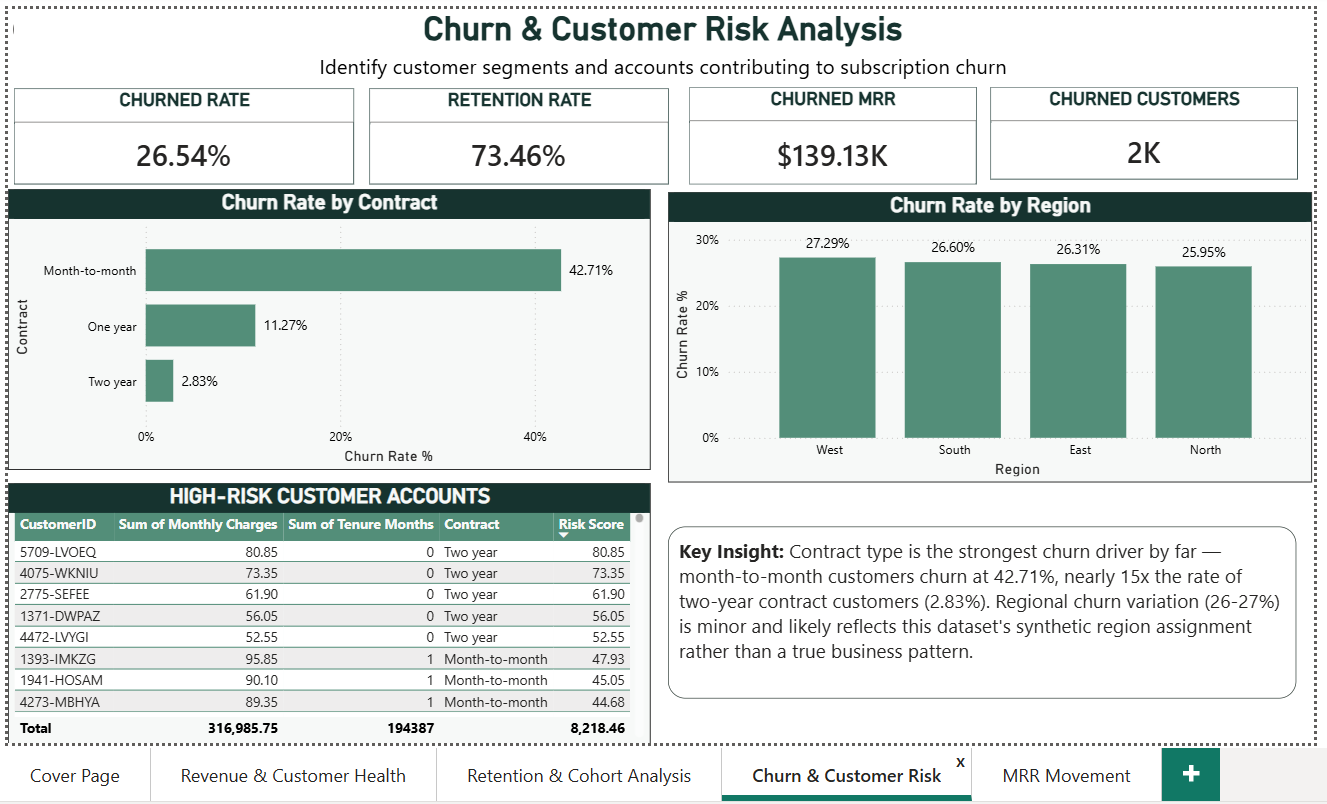

The page's visual inventory and layout, read from the dashboard file:
{"tool":"powerbi","page":{"name":"Churn & Customer Risk","canvas":[1280,720],"ordinal":3},"visuals":[{"type":"clusteredBarChart","title":"Churn Rate  by Contract","fields":{"Category":["Subscriptions.Contract"],"Y":["Subscriptions.Churn Rate %"]},"box":[0,176.4,629.8,275.5],"z":0},{"type":"columnChart","title":"Churn Rate by Region","fields":{"Y":["Subscriptions.Churn Rate %"],"Category":["Subscriptions.Region"]},"box":[647.7,179.7,631.5,285],"z":1000},{"type":"tableEx","title":"HIGH-RISK CUSTOMER ACCOUNTS   ","fields":{"Values":["Subscriptions.CustomerID","Sum(Subscriptions.Monthly Charges)","Sum(Subscriptions.Tenure Months)","Subscriptions.Contract","Subscriptions.Risk Score"]},"box":[0,464.7,629.9,255.8],"z":2000},{"type":"actionButton","box":[0,0,100,40],"z":3000},{"type":"textbox","title":"Churn & Customer Risk Analysis","box":[5.8,0,1272.7,75.8],"z":4000},{"type":"cardVisual","title":"CHURNED RATE","fields":{"Data":["Subscriptions.Churn Rate %"]},"box":[6.5,77.7,333.6,93.9],"z":5000},{"type":"cardVisual","title":"RETENTION RATE","fields":{"Data":["Subscriptions.Retention Rate %"]},"box":[354.6,77.7,293.1,93.9],"z":6000},{"type":"cardVisual","title":"CHURNED MRR","fields":{"Data":["Subscriptions.Churned MRR"]},"box":[667.1,76.1,281.7,95.5],"z":7000},{"type":"cardVisual","title":"CHURNED CUSTOMERS","fields":{"Data":["Subscriptions.Churned Customers"]},"box":[963.4,76.1,301.2,90.7],"z":8000},{"type":"textbox","box":[647.4,506.8,615.8,168.9],"z":8001}]}

Visuals, with their boxes on the page's 1280x720 design canvas (x1, y1, x2, y2). These are canvas units, not pixel positions in the 1327x804 screenshot, which may show the page scaled, cropped or inside an application window:
"Churn Rate  by Contract" clusteredBarChart: left=0, top=176, right=630, bottom=452
"Churn Rate by Region" columnChart: left=648, top=180, right=1279, bottom=465
"HIGH-RISK CUSTOMER ACCOUNTS   " tableEx: left=0, top=465, right=630, bottom=720
actionButton: left=0, top=0, right=100, bottom=40
"Churn & Customer Risk Analysis" textbox: left=6, top=0, right=1278, bottom=76
"CHURNED RATE" cardVisual: left=6, top=78, right=340, bottom=172
"RETENTION RATE" cardVisual: left=355, top=78, right=648, bottom=172
"CHURNED MRR" cardVisual: left=667, top=76, right=949, bottom=172
"CHURNED CUSTOMERS" cardVisual: left=963, top=76, right=1265, bottom=167
textbox: left=647, top=507, right=1263, bottom=676
